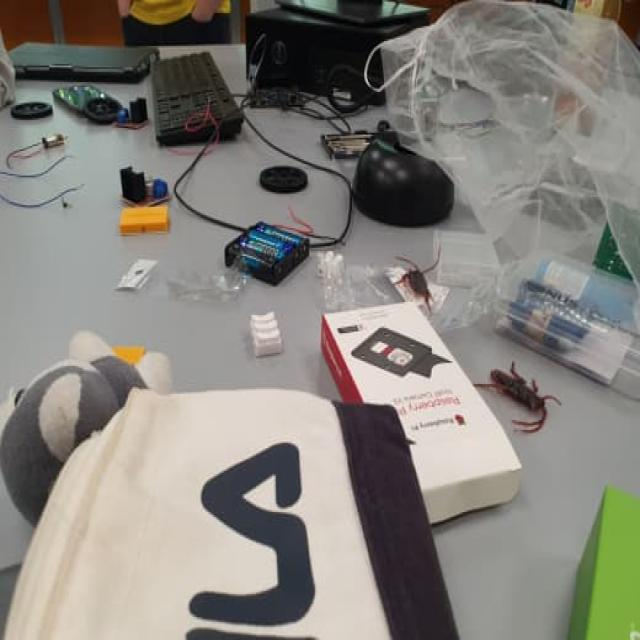Cockroach: (478, 351, 562, 440), (394, 240, 442, 302)
